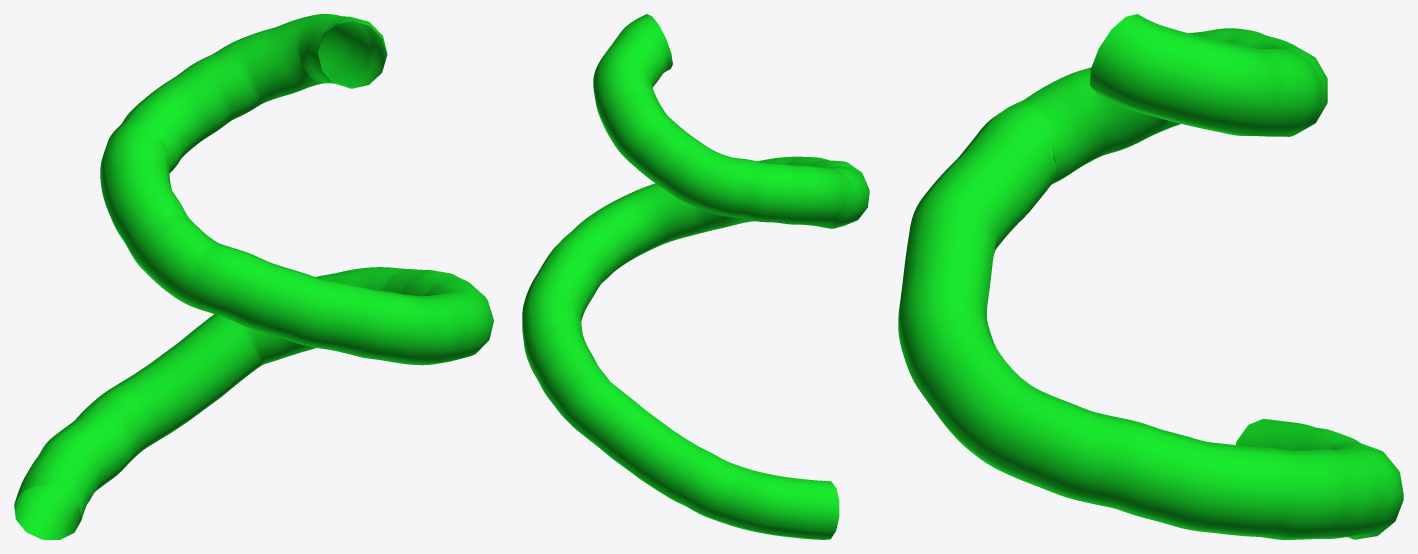
The model's file is tobogan1.fbx.
3 renders of one model, left to right at view 1: azimuth 30°, elevation 25°; view 2: azimuth 150°, elevation 25°; view 3: azimuth 270°, elevation 25°, orthographic. The views are drawn at different scales.
Visible parts, largest first — view 1: Tobogan1; view 2: Tobogan1; view 3: Tobogan1.
Part boxes in pixels (x1,y1,x2,y2): Tobogan1: (14,14,493,539); Tobogan1: (522,14,869,539); Tobogan1: (898,14,1403,539).
Size of the model in its own units: 78.2 by 95.29 by 67.53.
